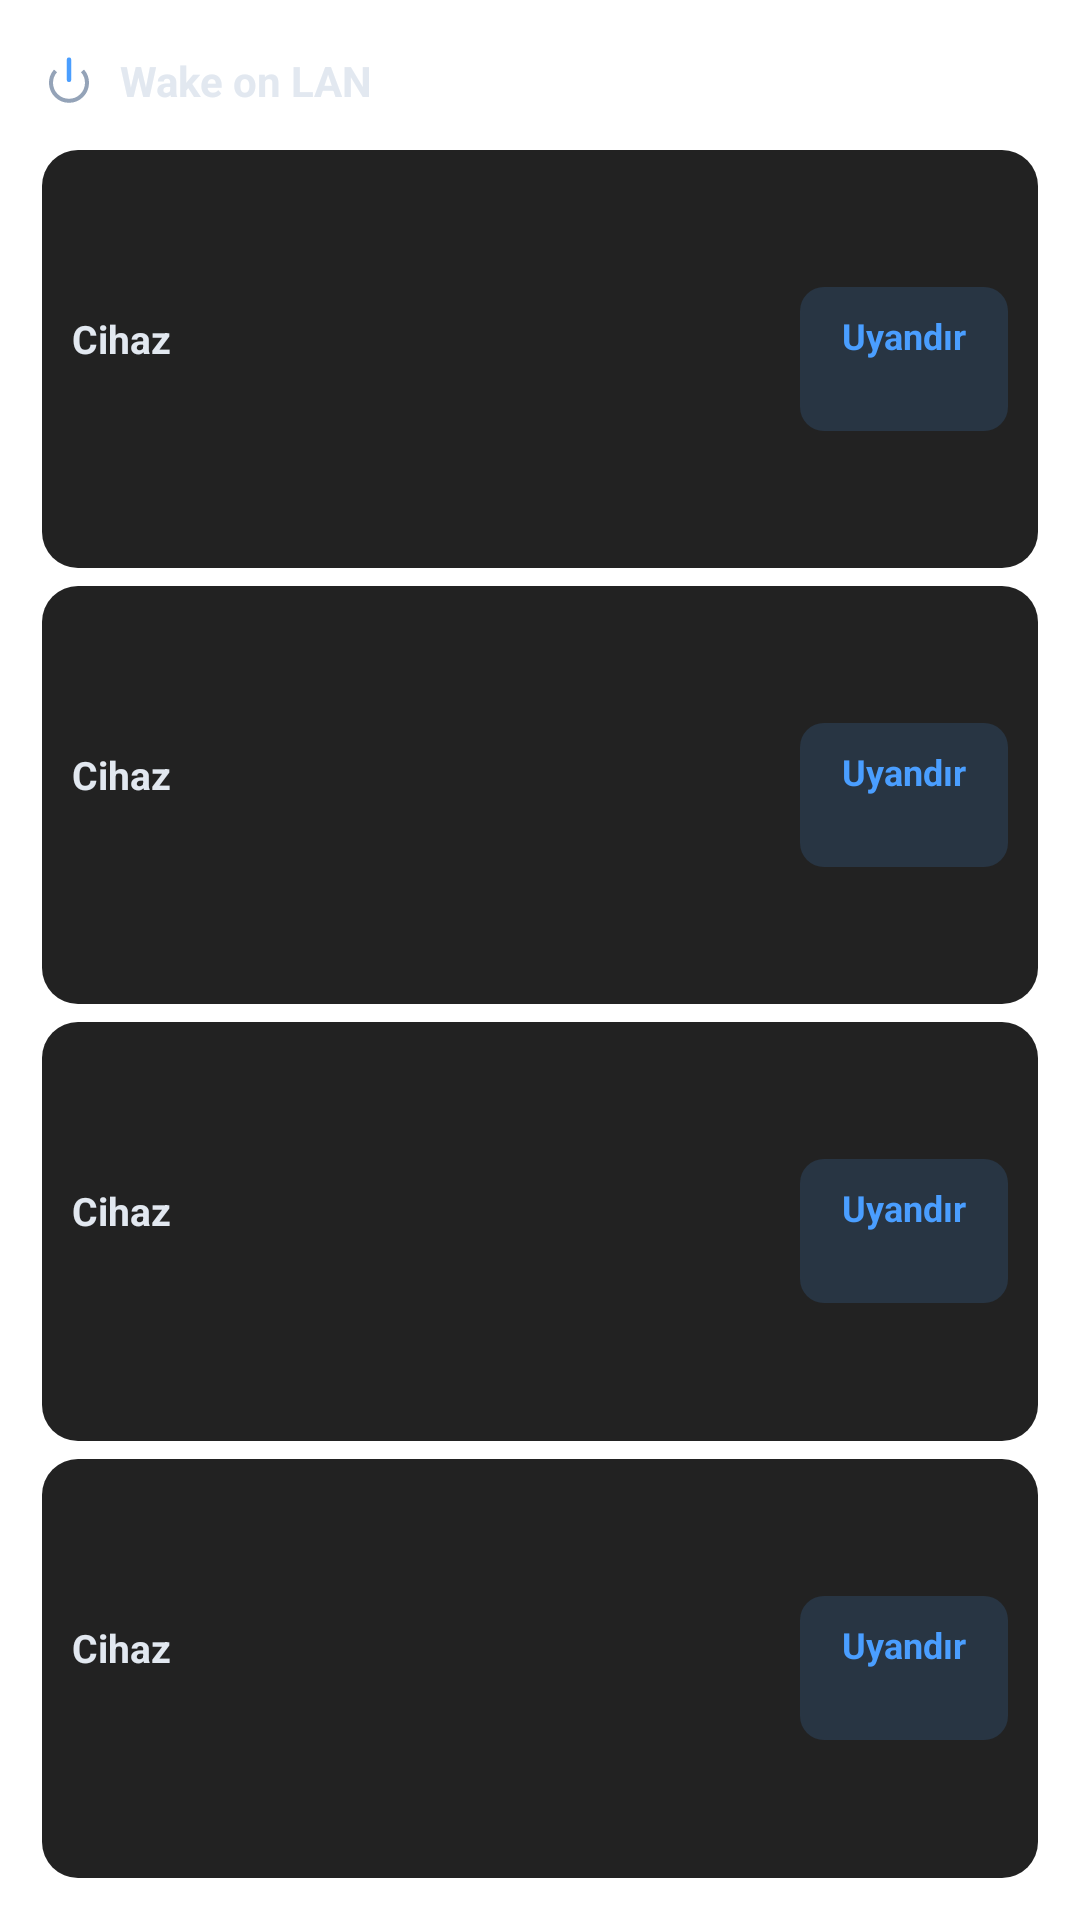

Icons on this 1080x1920 Android screen, each with its box as box=[x1, y1, x2, y2]:
wol unit: box=[49, 57, 89, 103]
